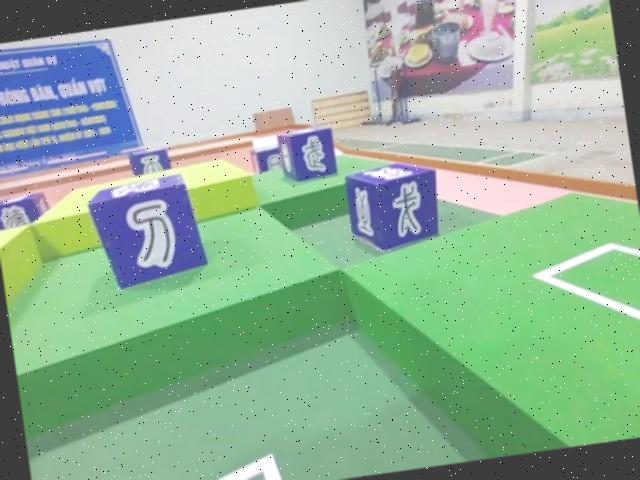R2 Fake Blue: (81, 169, 211, 291), (340, 154, 443, 253), (276, 121, 338, 187), (0, 189, 50, 233), (123, 142, 173, 177), (246, 141, 280, 176)
